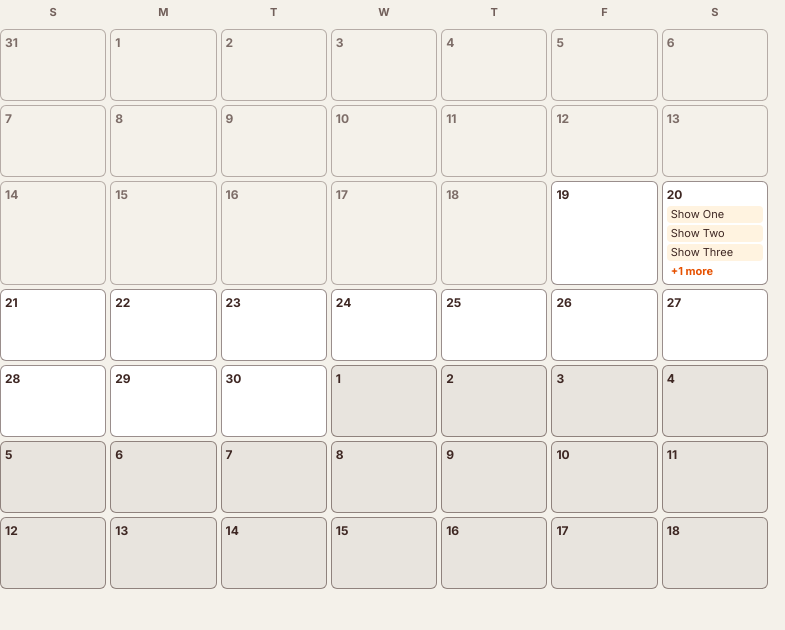
Scenario: UpcomingEventsMiniCalendar › shows three titles and +N more for busy dates
Click the button with test id "calendar-more-2026-06-20" at (715, 272), box [667,263,763,280]
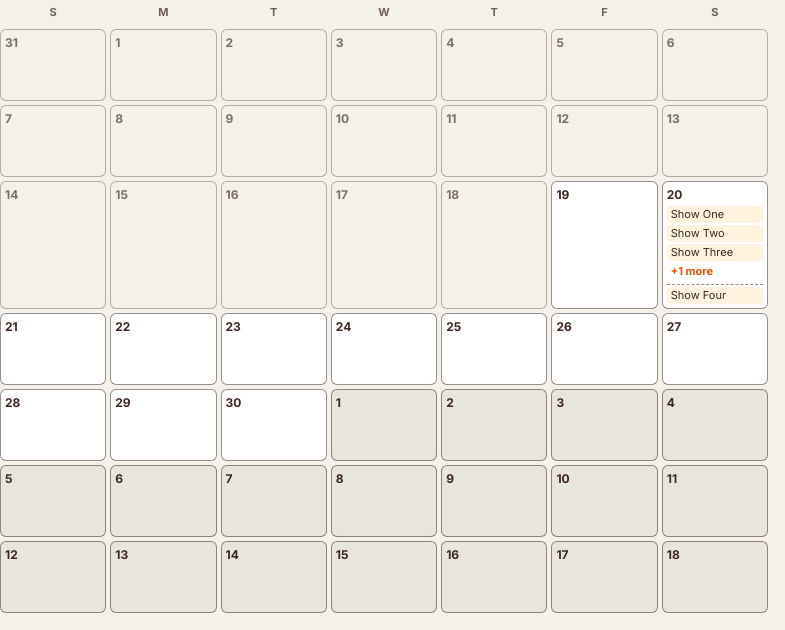
Expected: the element with test id "calendar-popover-2026-06-20" is shown, [667,284,763,304]
Expected: the button with test id "calendar-event-44444444-4444-4444-4444-444444444444" is shown, [667,287,763,304]
